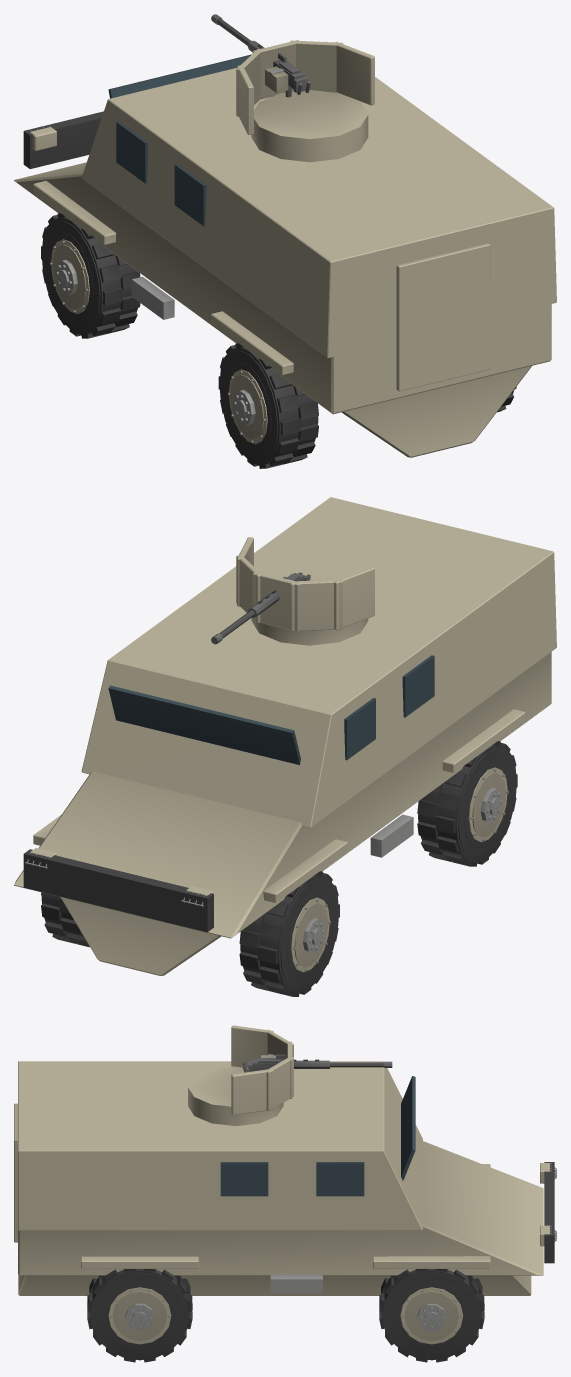
File: rus_mrap_k53949.glb
3 views of the same model, one above another, from view 1: azimuth 30°, elevation 25°; view 2: azimuth 150°, elevation 25°; view 3: azimuth 270°, elevation 25° (orthographic). The views are drawn at different scales.
Parts seen in each view (by area): view 1: body, turret, wheel_2, wheel_0, barrel; view 2: body, turret, wheel_0, wheel_2, wheel_1, barrel; view 3: body, wheel_1, wheel_3, turret, barrel.
Part boxes in pixels (bbox=[...]): body: bbox=[14, 54, 556, 457]; turret: bbox=[236, 40, 374, 162]; wheel_2: bbox=[218, 343, 318, 468]; wheel_0: bbox=[41, 213, 140, 338]; barrel: bbox=[211, 14, 310, 97]; body: bbox=[14, 497, 556, 975]; turret: bbox=[236, 537, 374, 645]; wheel_0: bbox=[239, 871, 339, 996]; wheel_2: bbox=[417, 741, 517, 866]; wheel_1: bbox=[41, 892, 89, 947]; barrel: bbox=[211, 572, 310, 644]; body: bbox=[14, 1061, 556, 1295]; wheel_1: bbox=[379, 1269, 484, 1362]; wheel_3: bbox=[87, 1269, 192, 1362]; turret: bbox=[188, 1025, 293, 1125]; barrel: bbox=[242, 1054, 392, 1072].
Size of the model in its own units: 2.78 by 3.35 by 6.23.
